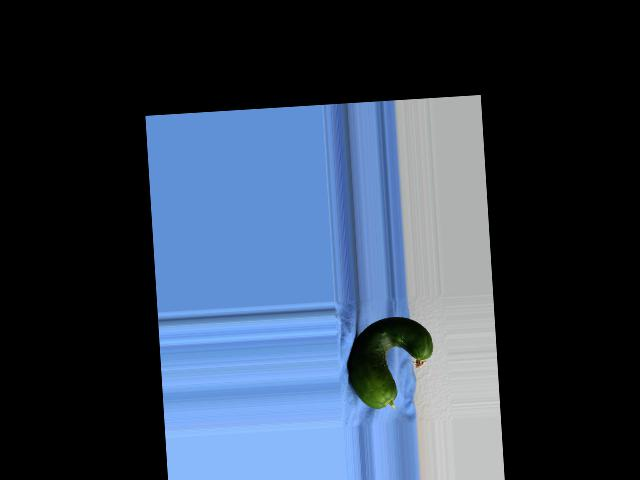cucumber: (345, 314, 436, 411)
